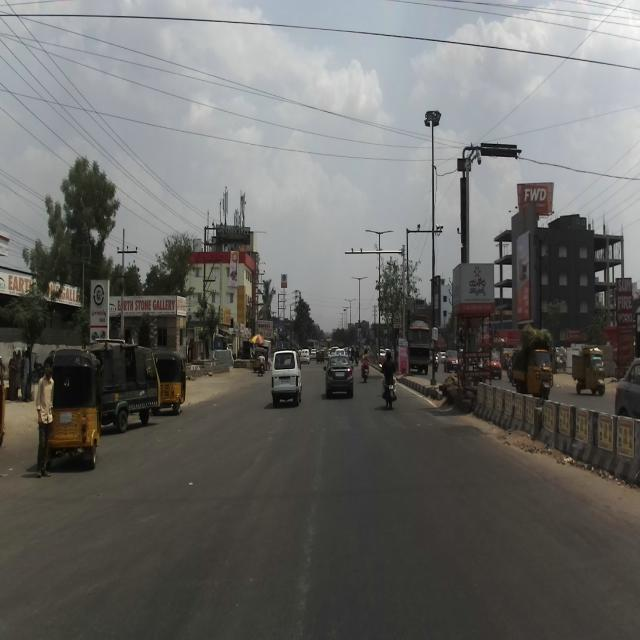Car: (322, 353, 353, 398)
Car_Maruti-Suzuki: (270, 348, 302, 406)
autorickshaw: (86, 338, 162, 432), (46, 348, 104, 468), (508, 331, 559, 396)
motorcycle_Honda: (378, 358, 400, 410)
